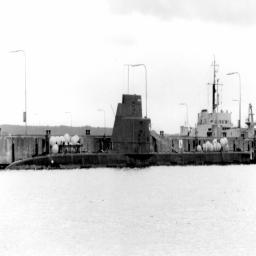submarine: (7, 91, 253, 171)
